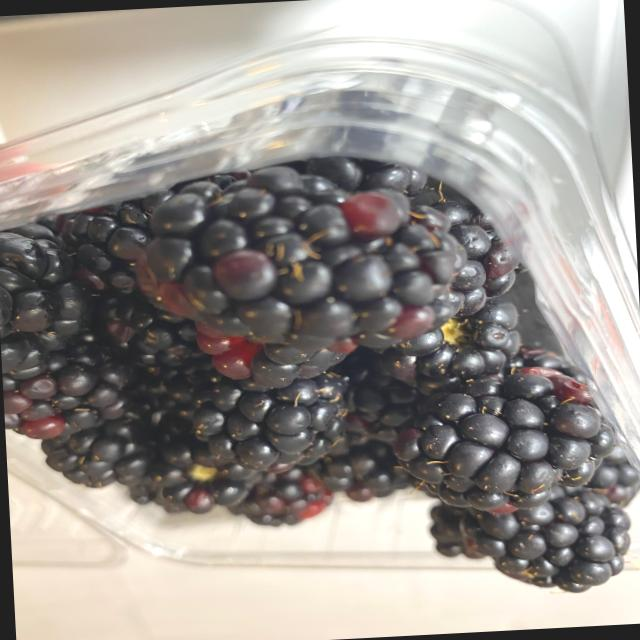blackberries: (1, 142, 640, 617)
